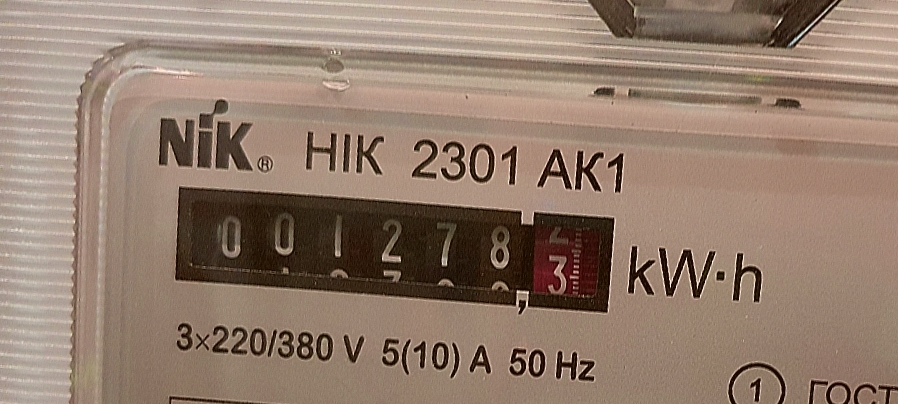0: (215, 211, 250, 262), (269, 209, 300, 259)
1: (327, 211, 351, 261)
2: (375, 215, 409, 265), (545, 224, 573, 248)
3: (542, 249, 574, 296)
7: (430, 218, 459, 270)
8: (484, 222, 516, 273)
screen: (146, 143, 639, 353)
